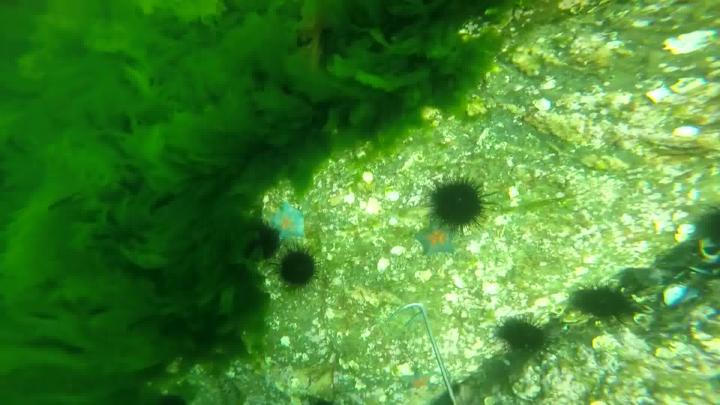echinus: (428, 178, 496, 233), (275, 248, 320, 295), (574, 288, 643, 318), (498, 314, 545, 351), (243, 220, 279, 262)
scallop: (647, 90, 670, 104), (676, 126, 697, 140), (535, 99, 553, 111), (378, 258, 391, 273), (362, 173, 377, 185), (387, 191, 400, 203), (391, 247, 405, 258)
starfish: (419, 225, 461, 260), (269, 206, 308, 240)
